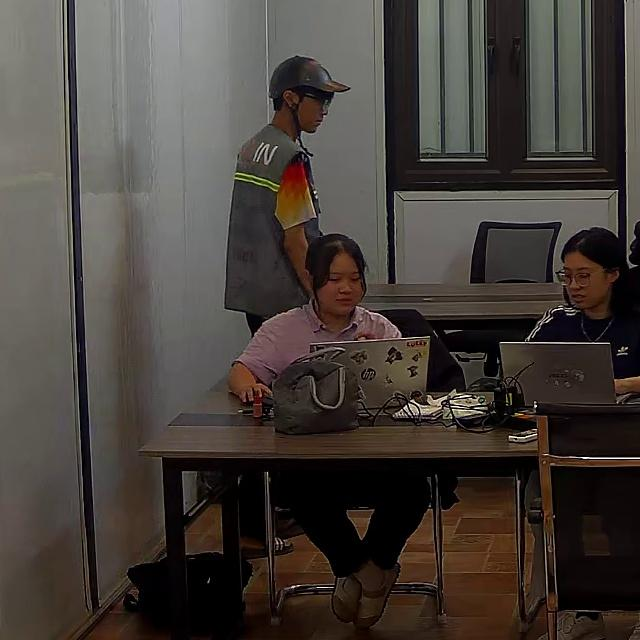helmet: (268, 54, 352, 102)
no_helmet: (559, 227, 633, 317), (304, 234, 369, 304)
none: (234, 301, 399, 389), (525, 303, 638, 385)
vest: (224, 124, 325, 314)
